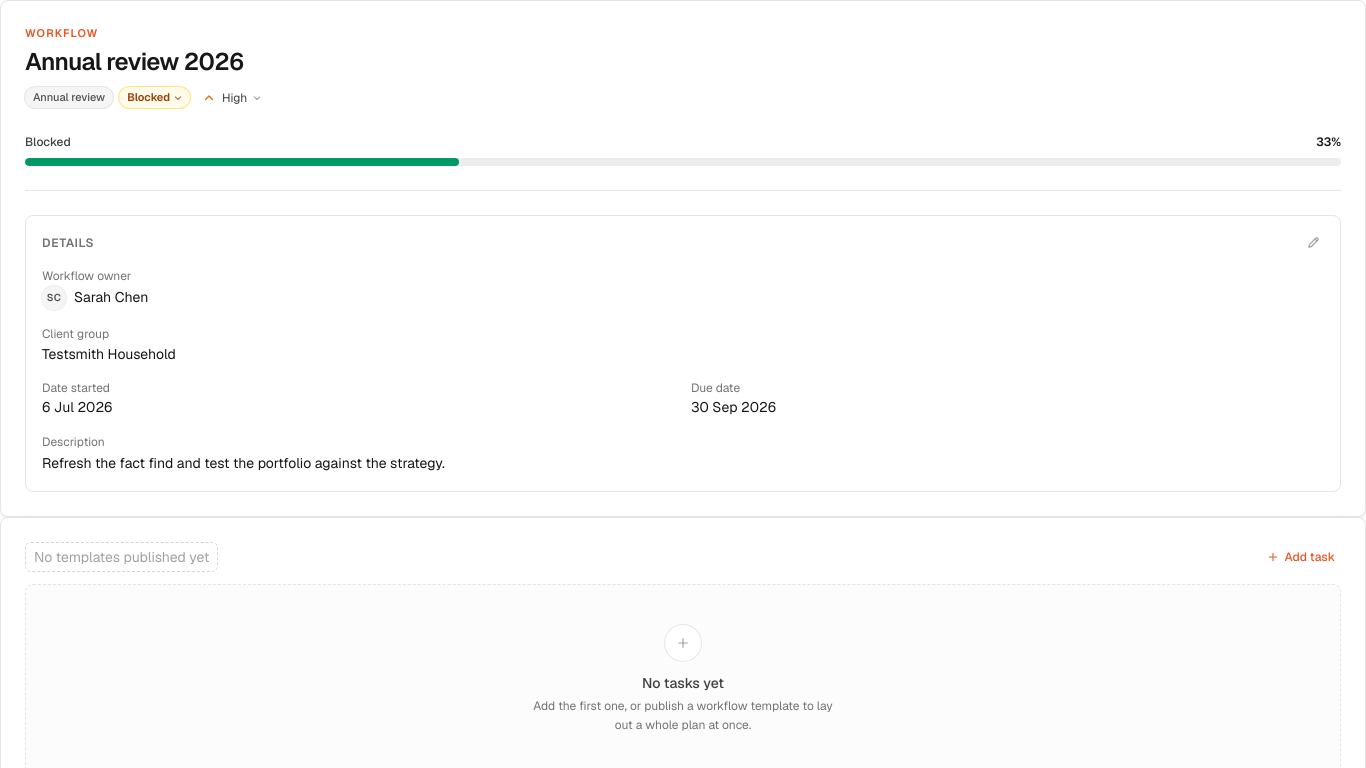
the workflow detail page › a refused status change puts the pill and the bar back, with the reason
The image size is (1366, 768).
Click the button with aria-label "Change status of": [155, 98] box [119, 87, 190, 108]
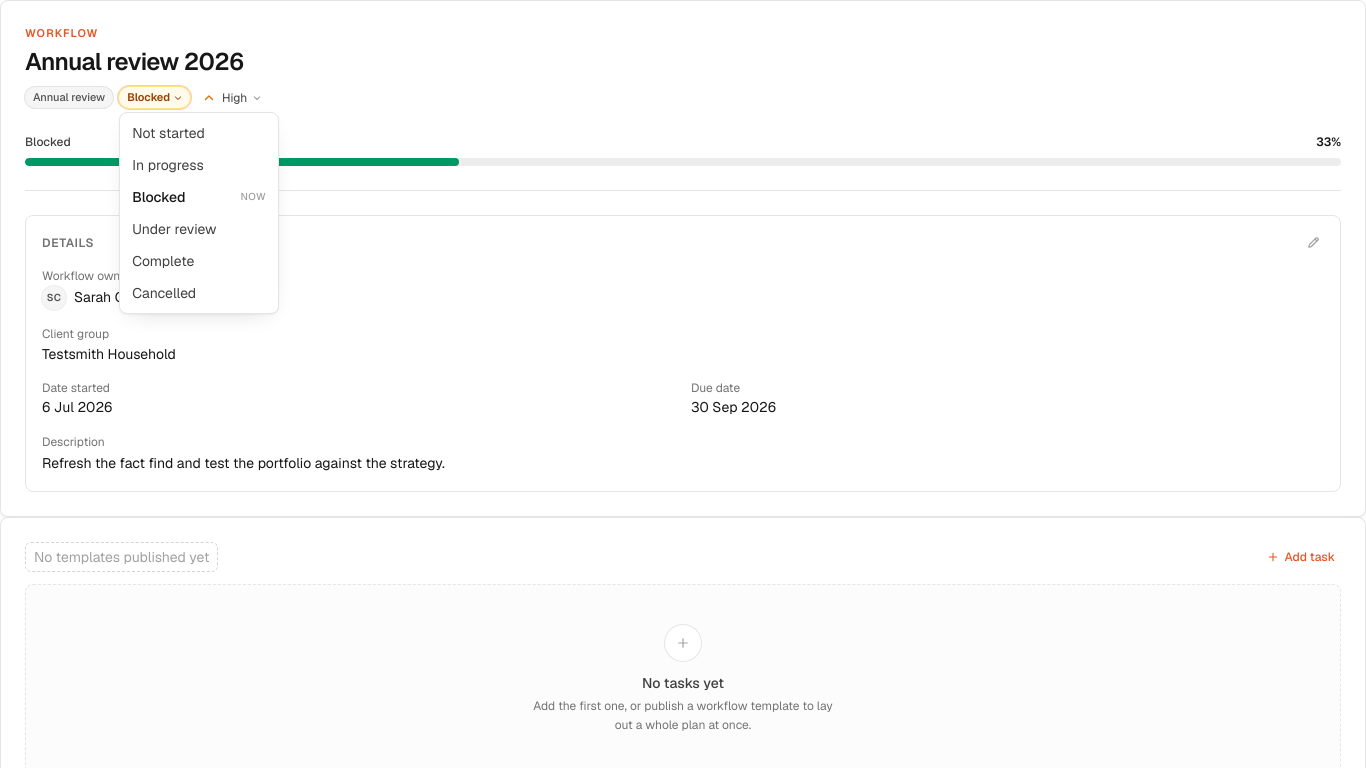
Click the menu item "Cancelled": [199, 293] box [124, 277, 274, 309]
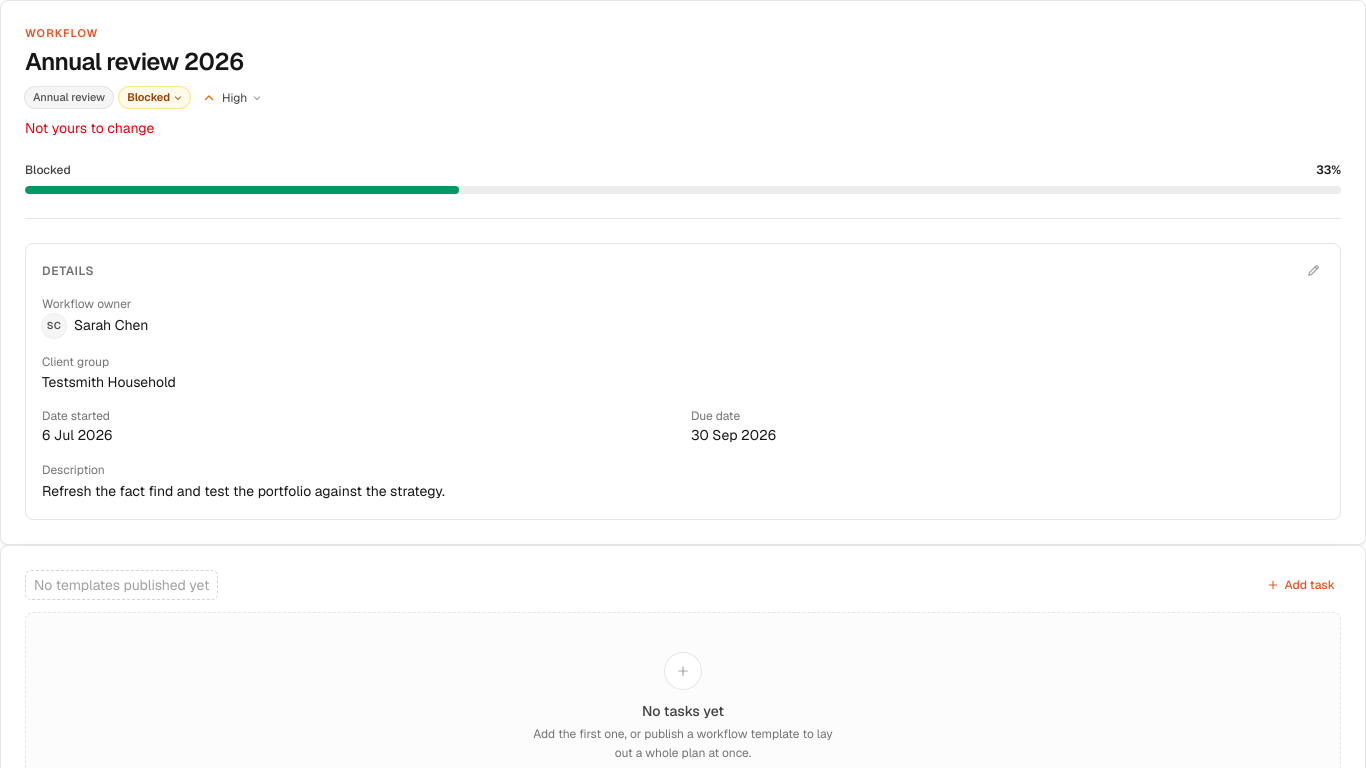
Expected: the button with aria-label "Status: Blocked" is shown, [119, 87, 190, 108]
Expected: the message reads "Not yours to change", [25, 118, 154, 136]
